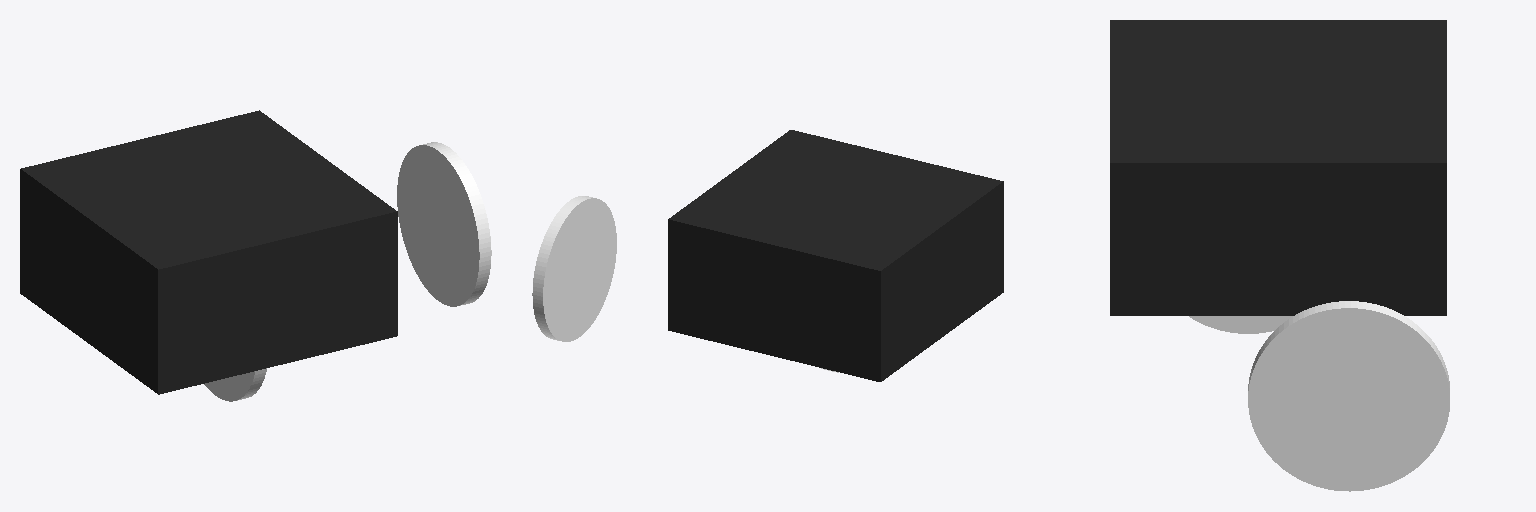
robot.urdf — maze_bot:
<robot name="maze_bot">

    <!-- 
      - take a look into inertia_calculations.txt file
      Inertia Values https://github.com/RobotnikAutomation/rb1_base_common/issues/1
  -   Get the inertia tensor 
  -   Scale 
  -   Divide by the volume
  -   Divide by scale*2 (scale -sqaurred)
  -   multiply with  mass you wantto give
  Thats why we use xacros
  
   -->
  
      <link name="base_footprint"/>
      <link name="base">
        <inertial>
          <mass value="2" />
          <origin xyz="0 0 0.1" rpy="0 0 0" />
          <inertia ixx="0.00355" iyy="0.01265" izz="0.013832" ixy="0.0" ixz="0.0" iyz="0.0" />
        </inertial>
  
        <visual>
          <geometry>
              <mesh filename="package://bot_description/meshes/base_link.stl"/>
          </geometry>
          <material name="gray">
            <color rgba=".2 .2 .2 1" />
          </material>
        </visual>
    
        <collision>
          <geometry>
            <mesh filename="package://bot_description/meshes/base_link.stl"/>
        </geometry>
          <contact_coefficients mu="1" mu2="1" kp="1e+13.0" kd="1.0"/>
        </collision>
  
  
      </link>
     <joint name="base_joint" type="fixed">
        <parent link="base_footprint"/>
        <child link="base"/>
        <origin rpy="0 0 0" xyz="0 0 0.04"/>
      </joint>
  
  
   <link name="wheel_right">
      <inertial>
        <mass value="0.75"/>
        <inertia ixx="0.001444223" iyy="0.00280875" izz="0.001444223" ixy="0.0" ixz="0.0" iyz="0.0"/>
        <origin/>
      </inertial>
    
        <visual>
          
          <geometry>
              <mesh filename="package://bot_description/meshes/wheel_r.stl"/>
          </geometry>
  
          <material name="white">
            <color rgba="1 1 1 1"/>
          </material>
        </visual>
    
        <collision>
          <geometry>
              <mesh filename="package://bot_description/meshes/wheel_r.stl"/>
          </geometry>
          <contact_coefficients mu="0" kp="1000.0" kd="1.0"/>
        </collision>
  
      </link>
    
      <joint name="wheel_right_joint" type="continuous">
        <origin xyz="0 0 0" rpy="0 0.0 0.0"/>
        <parent link="base"/>
        <child link="wheel_right"/>
        <axis xyz="0.0 -1.0 0"/>
      </joint>
    
      <link name="wheel_left">
        <inertial>
          <mass value="0.75"/>
          <inertia ixx="0.001444223" iyy="0.00280875" izz="0.001444223" ixy="0.0" ixz="0.0" iyz="0.0" />
          <origin/>
        </inertial>
    
        <visual>
          
          <geometry>
              <mesh filename="package://bot_description/meshes/wheel_l.stl"/>
          </geometry>
          
          <material name="white">
            <color rgba="1 1 1 1"/>
          </material>
        </visual>
    
        <collision>
          <geometry>
              <mesh filename="package://bot_description/meshes/wheel_l.stl"/>
          </geometry>
          <contact_coefficients mu="0" kp="1000.0" kd="1.0"/>
        </collision>
      </link>
    
      <joint name="wheel_left_joint" type="continuous">
        <origin xyz="0.221 0.06 0" rpy="0 0.0 3.14"/>
        <parent link="base"/>
        <child link="wheel_left"/>
        <axis xyz="0.0 1 0"/>
    
      </joint>
    
    
      <link name="caster">
  
        <inertial>
          <mass value="0.75"/>
          <inertia ixx="0.0001295" iyy="0.0001295" izz="0.000199322" ixy="0.0" ixz="0.0" iyz="0.0" />
          <origin/>
        </inertial>
    
        <visual>
          <geometry>
            <mesh filename="package://bot_description/meshes/front_caster.stl"/>
        </geometry>
          <material name="black" />
        </visual>
    
        <collision>
          <geometry>
            <mesh filename="package://bot_description/meshes/front_caster.stl"/>
        </geometry>
          <contact_coefficients mu="0" kp="1000.0" kd="1.0"/>
        </collision>
      </link>
    
      <joint name="caster_joint" type="continuous">
        <origin xyz="0 0 0" rpy="0.0 0.0 0.0"/>
        <axis xyz="0 0 1" />
        <parent link="base"/>
        <child link="caster"/>
      </joint>  
  
  
    <link name="camera_link">
    </link>
  
    <joint name="camera_joint" type="fixed">
      <origin xyz="0 0 0" rpy="0 0.0 3.14"/>
      <parent link="base"/>
      <child link="camera_link"/>
      <axis xyz="0.0 0.0 1.0"/>
    
  </joint>
  
  
      <gazebo reference="camera_link">
          <sensor type="camera" name="Botcamera">
            <update_rate>30.0</update_rate>
            <camera name="head">
              <horizontal_fov>1.3962634</horizontal_fov>
              <image>
                <width>800</width>
                <height>800</height>
                <format>R8G8B8</format>
              </image>
              <clip>
                <near>0.02</near>
                <far>300</far>
              </clip>
              <noise>
                <type>gaussian</type>
                <mean>0.0</mean>
                <stddev>0.007</stddev>
              </noise>
            </camera>
            <plugin name="camera_controller" filename="libgazebo_ros_camera.so">
              <alwaysOn>true</alwaysOn>
              <updateRate>0.0</updateRate>
              <cameraName>/Botcamera</cameraName>
              <imageTopicName>image_raw</imageTopicName>
              <cameraInfoTopicName>camera_info</cameraInfoTopicName>
              <frameName>camera_link</frameName>
              <hackBaseline>0.07</hackBaseline>
            </plugin>
          </sensor>
          <material>Gazebo/Blue</material>
        </gazebo>
  
  
  
  
    
  
      <gazebo>
        <plugin filename="libgazebo_ros_diff_drive.so" name="gazebo_base_controller">
          <odometry_frame>odom</odometry_frame>
          <commandTopic>cmd_vel</commandTopic>
          <publish_odom>true</publish_odom>
          <publish_odom_tf>true</publish_odom_tf>
          <update_rate>15.0</update_rate>
          <left_joint>wheel_left_joint</left_joint>
          <right_joint>wheel_right_joint</right_joint>
          <wheel_separation>0.8</wheel_separation>
          <wheel_diameter>0.3</wheel_diameter>
          <max_wheel_acceleration>0.7</max_wheel_acceleration>
          <robotBaseFrame>base</robotBaseFrame>
    
        </plugin>
      </gazebo>
  
  
    <gazebo reference="base">
        <material>Gazebo/Black</material>
      </gazebo>
      <gazebo reference="caster">
        <material>Gazebo/White</material>
      </gazebo>
      
      <gazebo reference="wheel_right">
        <material>Gazebo/Orange</material>
      </gazebo>
      <gazebo reference="wheel_left">
        <material>Gazebo/Orange</material>
      </gazebo>  
  
  
  
  
  
  
  
    </robot>
    

--- What the picture shows (computed from the rendered views, not written in the file) ---
3 views of the same robot in one strip: view 1: azimuth 30°, elevation 25°; view 2: azimuth 150°, elevation 25°; view 3: azimuth 270°, elevation 25° (orthographic).
Robot: maze_bot — 6 links, 5 joints (3 continuous, 2 fixed); root link base_footprint; default pose: every joint at zero.
Visible links, largest first — view 1: base, wheel_left, wheel_right; view 2: base, wheel_left; view 3: base, wheel_left, wheel_right.
Boxes of the visible links, x1=… form: base: x1=20, y1=110, x2=397, y2=394; wheel_left: x1=397, y1=142, x2=491, y2=306; wheel_right: x1=204, y1=368, x2=266, y2=401; base: x1=668, y1=130, x2=1003, y2=381; wheel_left: x1=532, y1=196, x2=616, y2=341; base: x1=1110, y1=20, x2=1446, y2=315; wheel_left: x1=1248, y1=301, x2=1449, y2=491; wheel_right: x1=1189, y1=316, x2=1292, y2=333.
Bounding box of the posed robot: 0.3263 × 0.2021 × 0.1561 m (x, y, z).
Meshes: 4 distinct files referenced, 4 mesh visuals loaded (4 binary STL).
